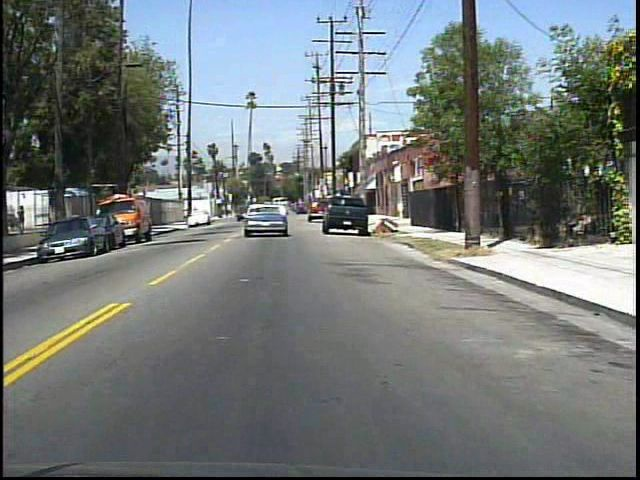person: (19, 203, 31, 235)
